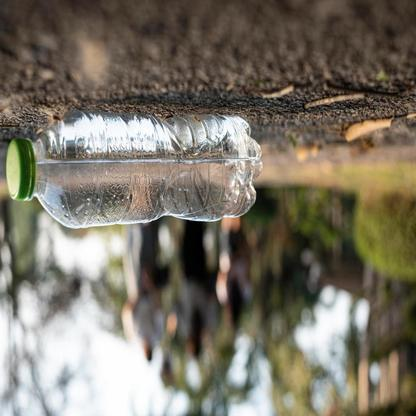plastic bottle: (8, 108, 262, 170)
